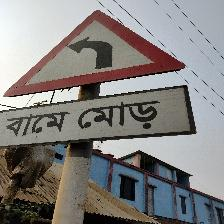Left-Turn: (2, 8, 192, 145)
